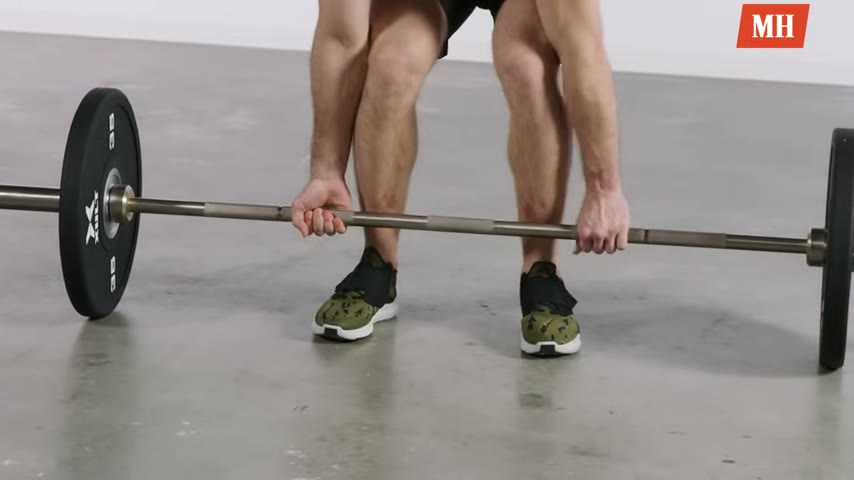barbell_plate_side: (49, 83, 147, 338)
